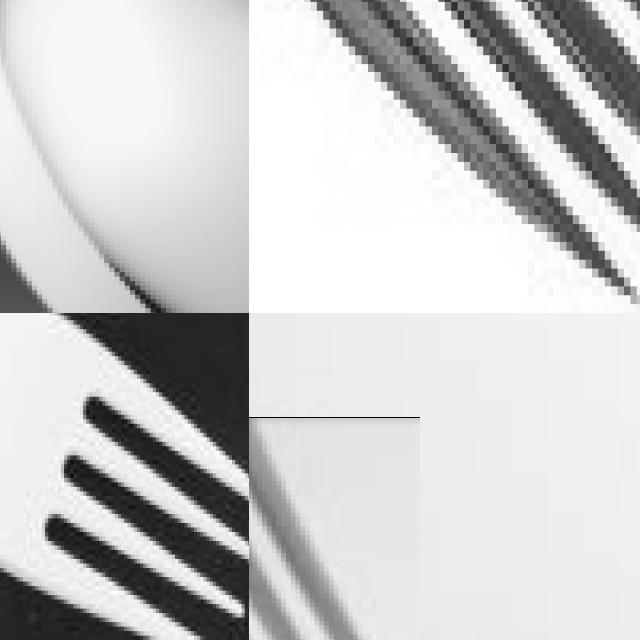forks: (249, 0, 640, 313), (0, 313, 249, 640), (249, 405, 408, 640)
spoons: (0, 0, 249, 313)
